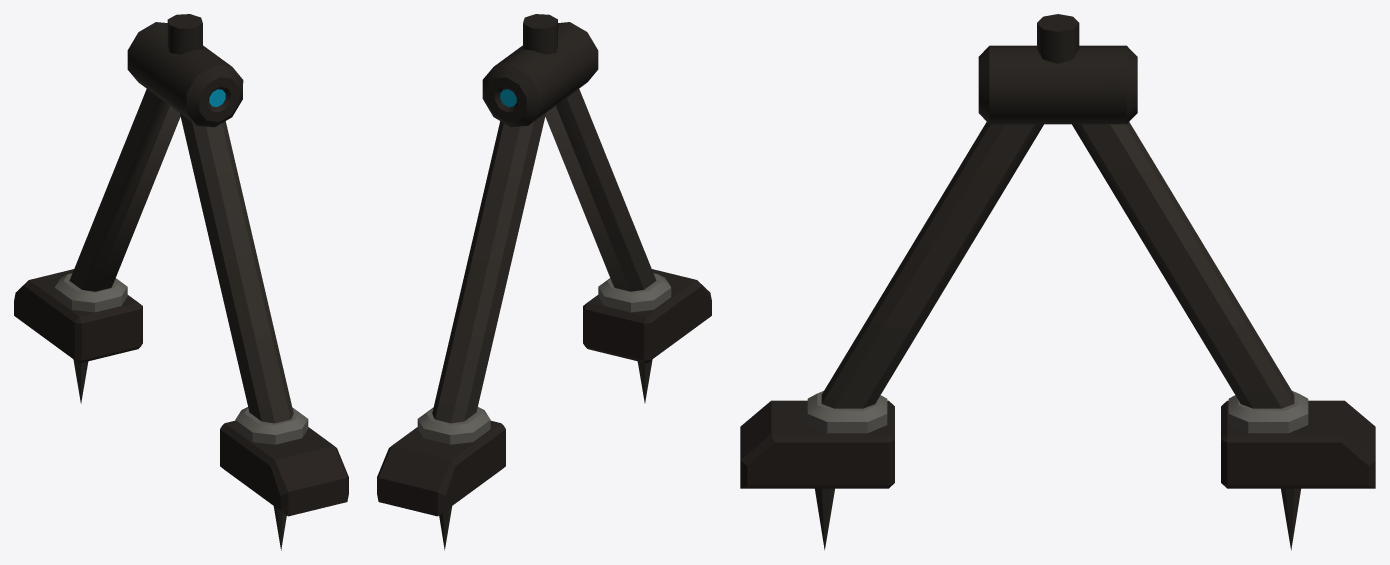
The model's file is SR2_Bipod.fbx.
3 views of the same model, side by side, from view 1: azimuth 30°, elevation 25°; view 2: azimuth 150°, elevation 25°; view 3: azimuth 270°, elevation 25° (orthographic). The views are drawn at different scales.
Parts seen in each view (by area): view 1: SR2_Bipod; view 2: SR2_Bipod; view 3: SR2_Bipod.
Boxes of the visible parts, x1,y1,x2,y2 form: SR2_Bipod: [14, 14, 348, 550]; SR2_Bipod: [377, 14, 711, 550]; SR2_Bipod: [740, 14, 1375, 550].
Size of the model in its own units: 4.63 by 29.45 by 31.97.
